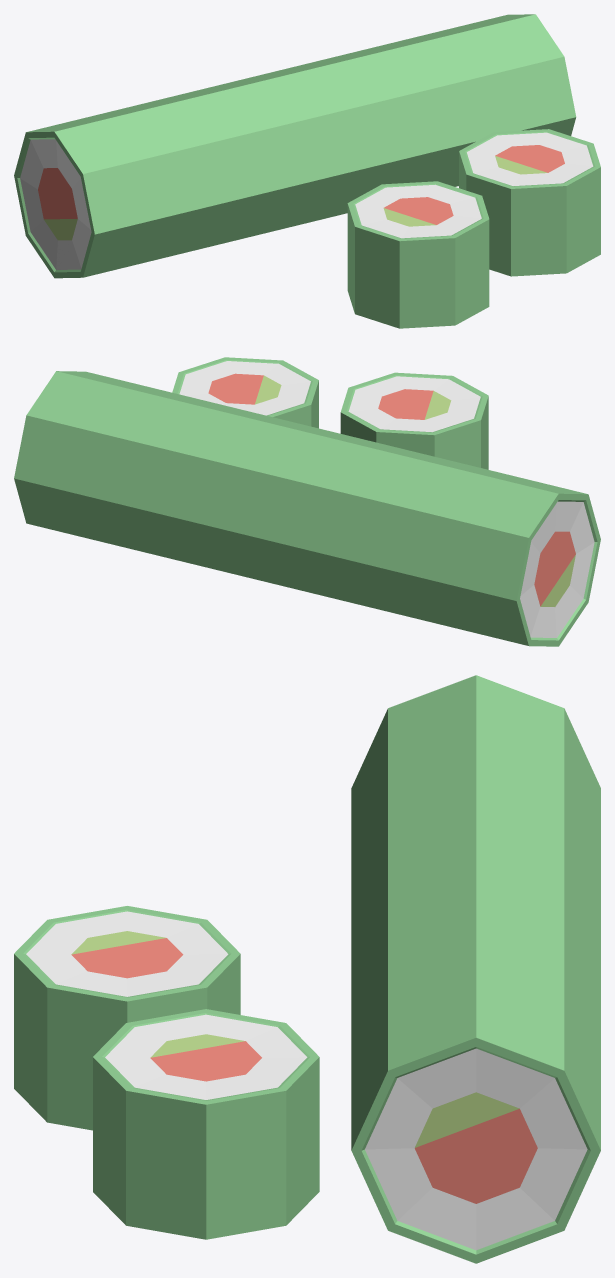
File: sushi-3.gltf
The picture shows the model from 3 angles, top to bottom: view 1: azimuth 30°, elevation 25°; view 2: azimuth 150°, elevation 25°; view 3: azimuth 270°, elevation 25°; orthographic projection. The views are drawn at different scales.
Parts seen in each view (by area): view 1: node-0; view 2: node-0; view 3: node-0.
Part boxes in pixels (x1,y1,x2,y2): node-0: (14,14,600,328); node-0: (14,357,600,646); node-0: (14,675,600,1263).
Size of the model in its own units: 10 by 2.91 by 6.84.
